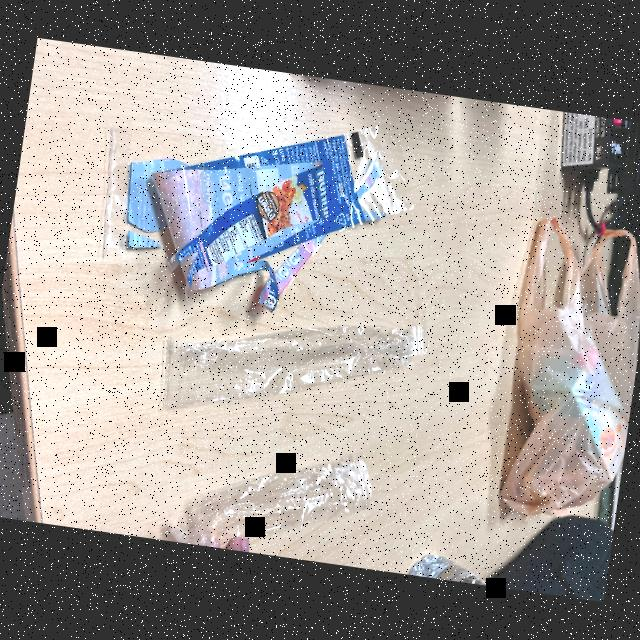scrap_plastic: (70, 80, 446, 318), (131, 281, 438, 450), (148, 426, 394, 570)
